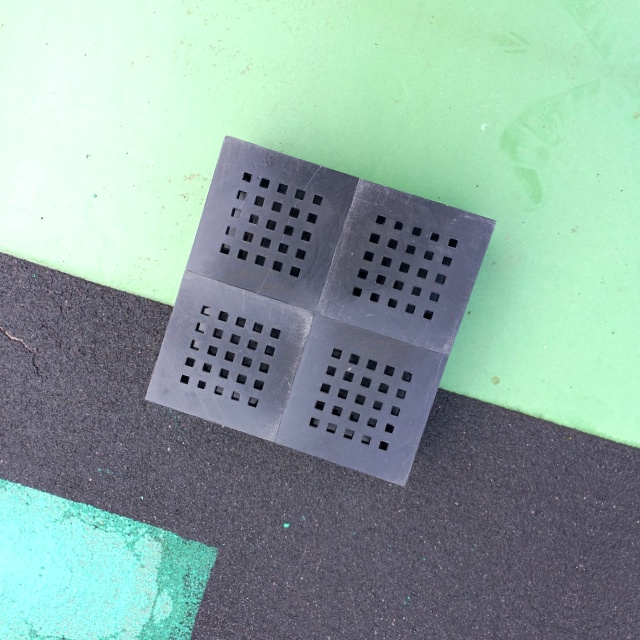pallet: (131, 126, 503, 501)
